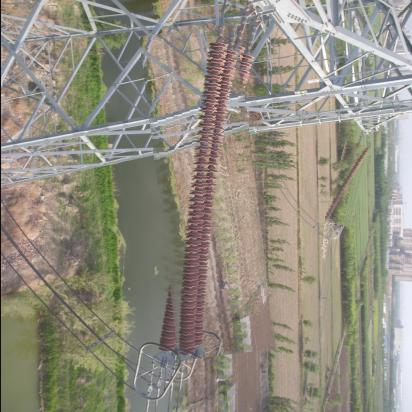insulator: (148, 28, 266, 360), (330, 142, 367, 227)
